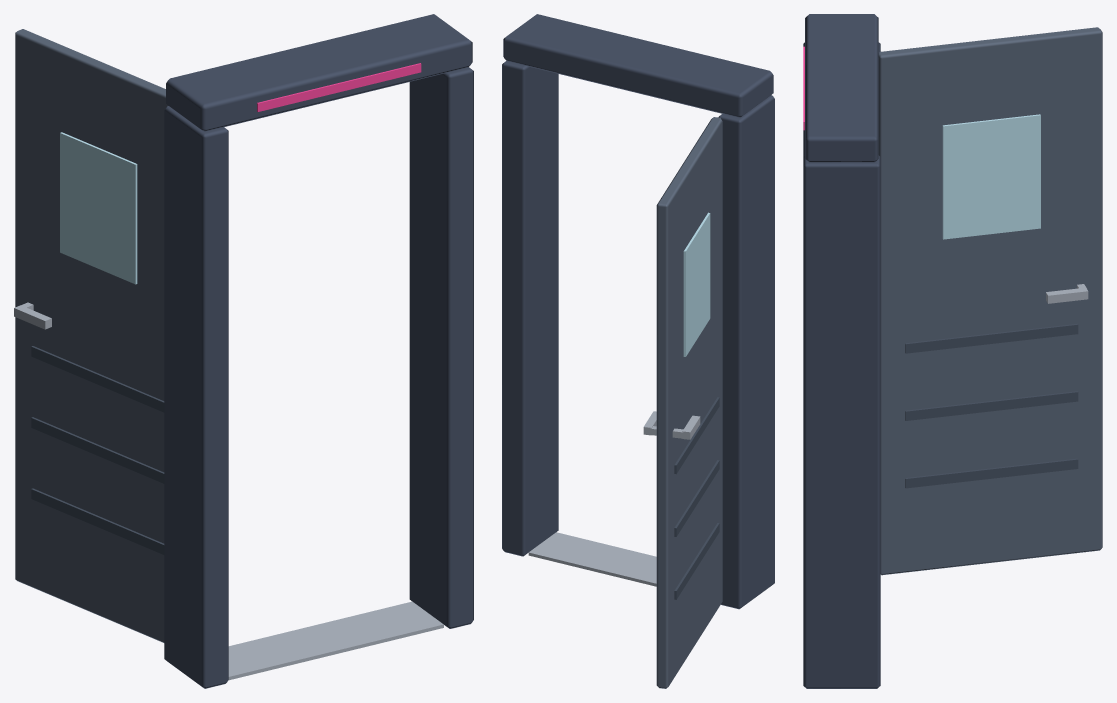
The model's file is wand_sockel_tuer.glb.
3 renders of one model, left to right at view 1: azimuth 30°, elevation 25°; view 2: azimuth 150°, elevation 25°; view 3: azimuth 270°, elevation 25°, orthographic. The views are drawn at different scales.
Parts seen in each view (by area): view 1: wand_sockel_tuer; view 2: wand_sockel_tuer; view 3: wand_sockel_tuer.
Part boxes in pixels (left/top/right/bottom): wand_sockel_tuer: left=14, top=14, right=473, bottom=688; wand_sockel_tuer: left=502, top=14, right=774, bottom=688; wand_sockel_tuer: left=803, top=14, right=1102, bottom=688.
Bounding box in the file's own units: 1.17 × 2.05 × 1.01.
